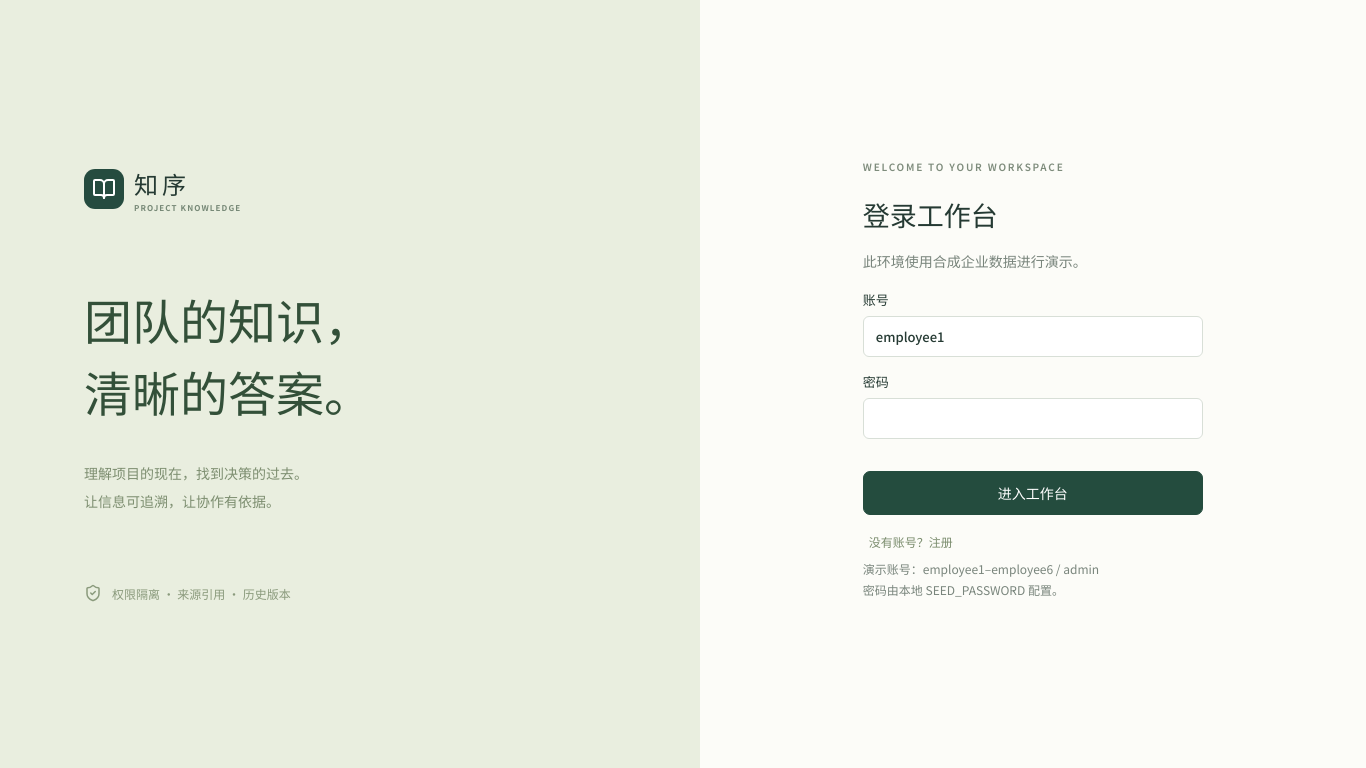
Scenario: 员工关键交互 › 未登录显示表单并呈现错误
Check: the heading "登录工作台" is shown, box [863,195,998,234]
Type "wrong" into the password field labelled "密码" at [1033, 418], box [863,398,1203,438]
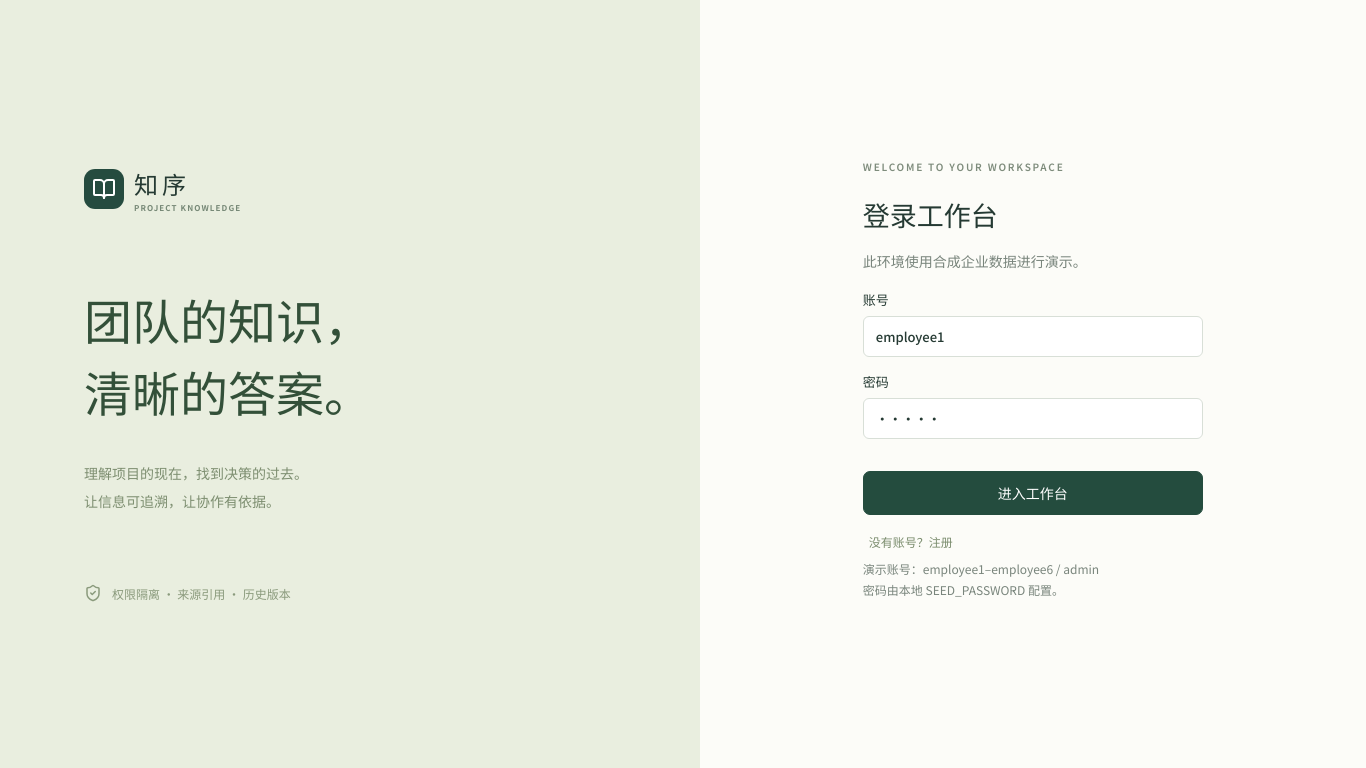
Click the button "进入工作台" at [1033, 492], box [863,470,1203,514]
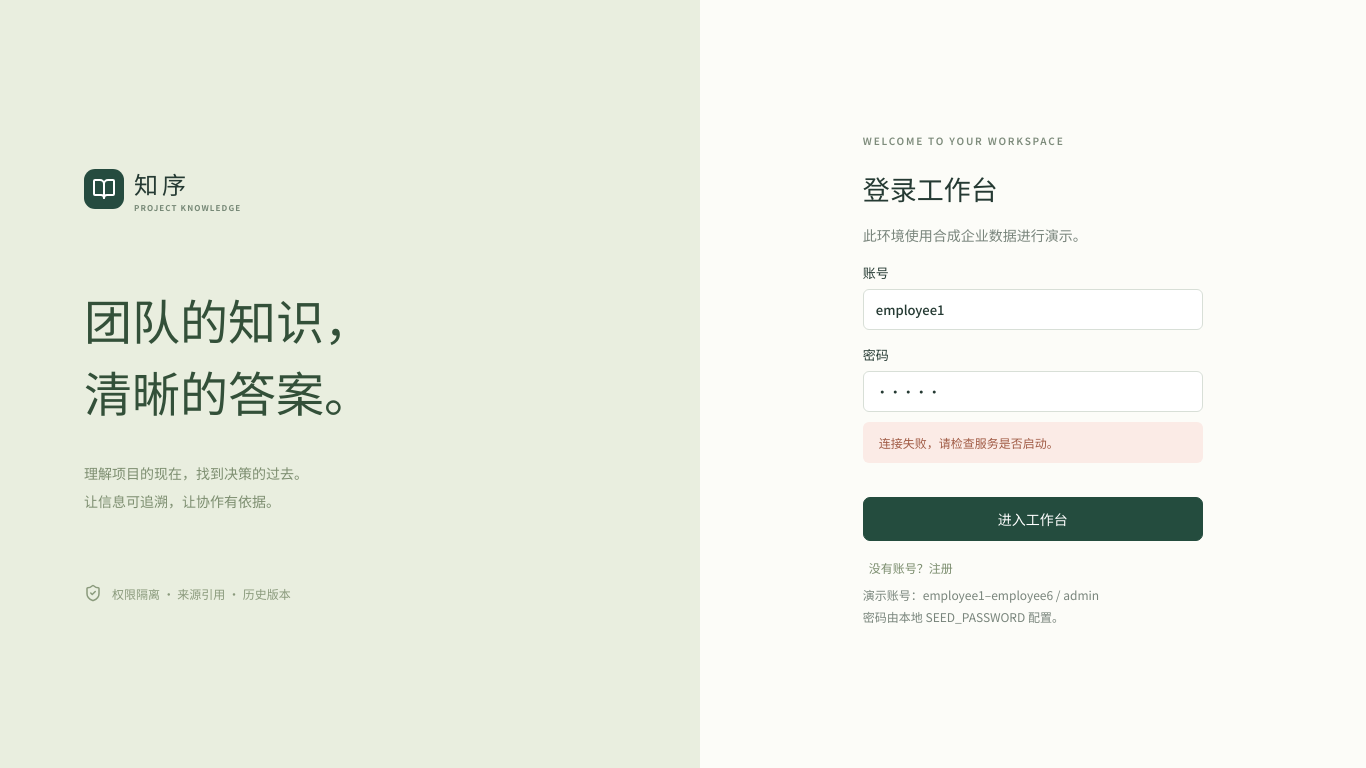
Check: the message "连接失败，请检查服务是否启动。" is shown, box [863,422,1203,463]
